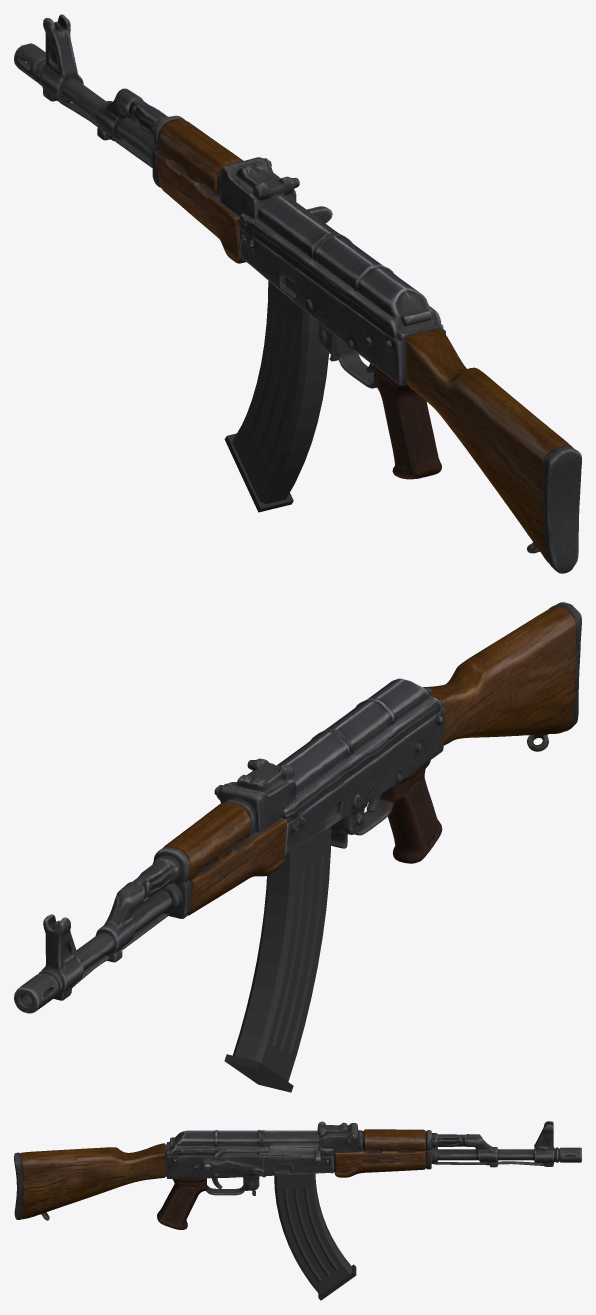
3 views of the same model, one above another, from view 1: azimuth 30°, elevation 25°; view 2: azimuth 150°, elevation 25°; view 3: azimuth 270°, elevation 25° (orthographic). The views are drawn at different scales.
Parts seen in each view (by area): view 1: Body, Magazine; view 2: Body, Magazine; view 3: Body, Magazine.
Part boxes in pixels (x1,y1,x2,y2): Body: (14, 14, 581, 573); Magazine: (224, 281, 328, 512); Body: (14, 602, 581, 1013); Magazine: (224, 817, 331, 1092); Body: (14, 1121, 581, 1229); Magazine: (274, 1171, 356, 1300).
Bounding box in the file's own units: 0.0762 × 0.2973 × 0.8806.
3 materials, 1 textured.
